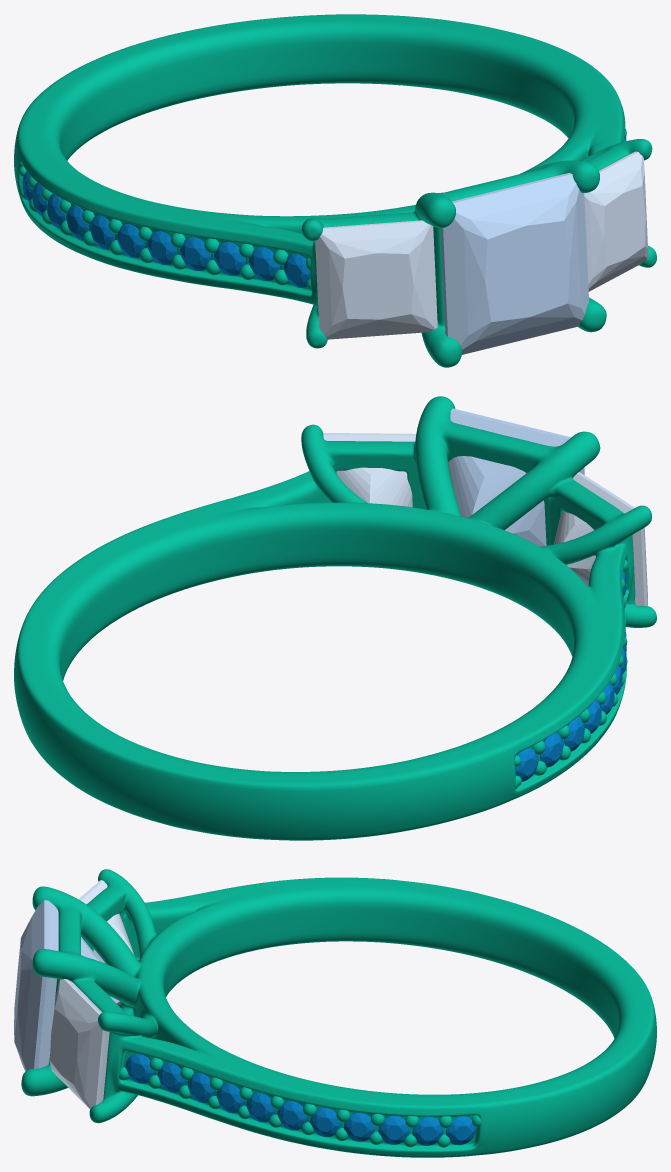
3 views of the same model, one above another, from view 1: azimuth 30°, elevation 25°; view 2: azimuth 150°, elevation 25°; view 3: azimuth 270°, elevation 25° (orthographic). The views are drawn at different scales.
Visible parts, largest first — view 1: FOR RENDER.3dm, Diamond_Princess (×3), Diamond_Round (×8); view 2: FOR RENDER.3dm, Diamond_Princess (×3); view 3: FOR RENDER.3dm, Diamond_Princess (×3), Diamond_Round (×11).
Boxes of the visible parts, bbox=[...] form: FOR RENDER.3dm: bbox=[14, 14, 656, 367]; Diamond_Princess (×3): bbox=[315, 151, 648, 354]; Diamond_Round (×8): bbox=[66, 205, 310, 287]; FOR RENDER.3dm: bbox=[14, 396, 656, 840]; Diamond_Princess (×3): bbox=[323, 408, 647, 606]; FOR RENDER.3dm: bbox=[21, 869, 656, 1157]; Diamond_Princess (×3): bbox=[14, 880, 134, 1109]; Diamond_Round (×11): bbox=[125, 1054, 476, 1145].
Bounding box in the file's own units: 2.53 × 0.7456 × 3.
